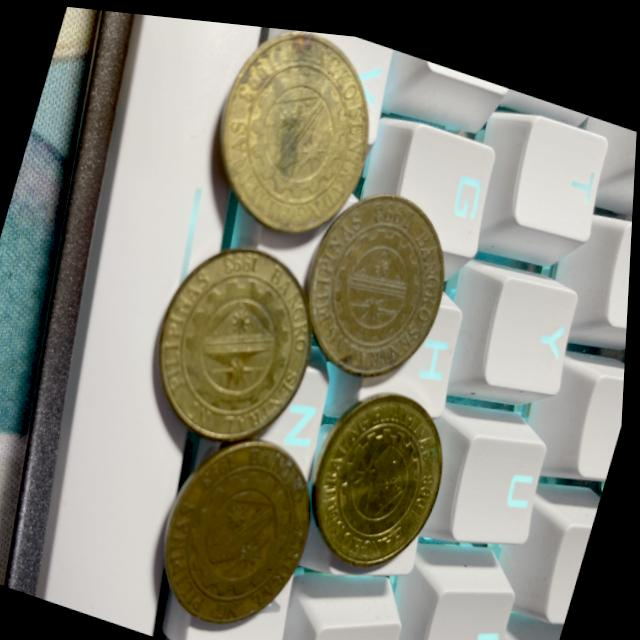25Cent_Old_Back: (195, 17, 395, 246), (144, 226, 330, 457), (149, 414, 329, 640), (289, 163, 466, 385), (303, 368, 469, 584)
